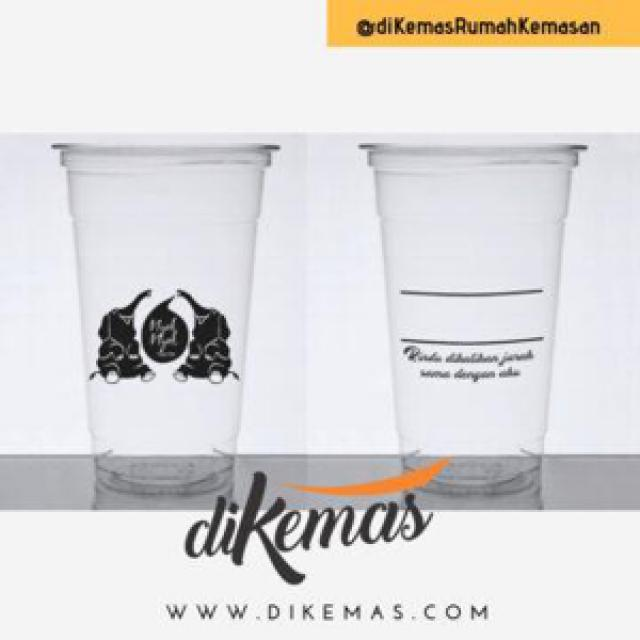plastic cup: (45, 137, 284, 508), (350, 137, 589, 506)
